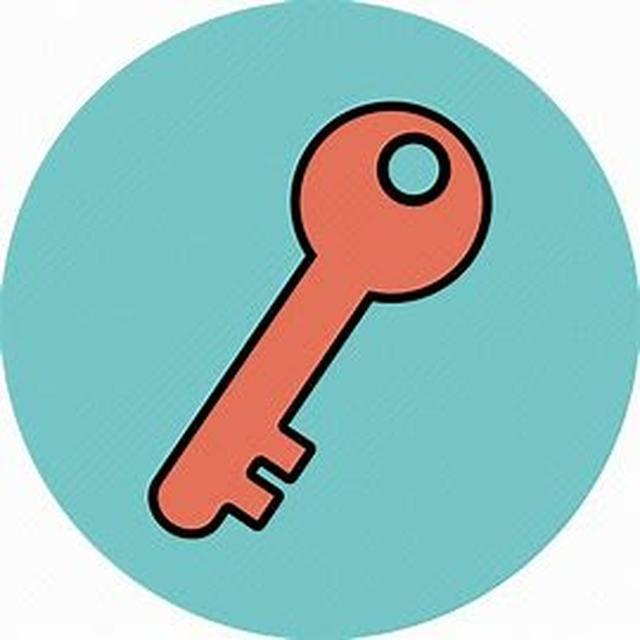key: (116, 74, 522, 580)
